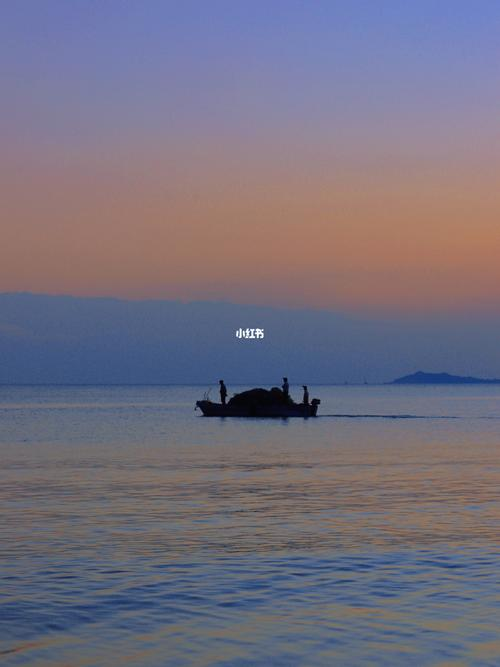sea_river: (22, 417, 481, 636), (34, 295, 455, 380)
sky_cloud: (22, 60, 458, 363)
